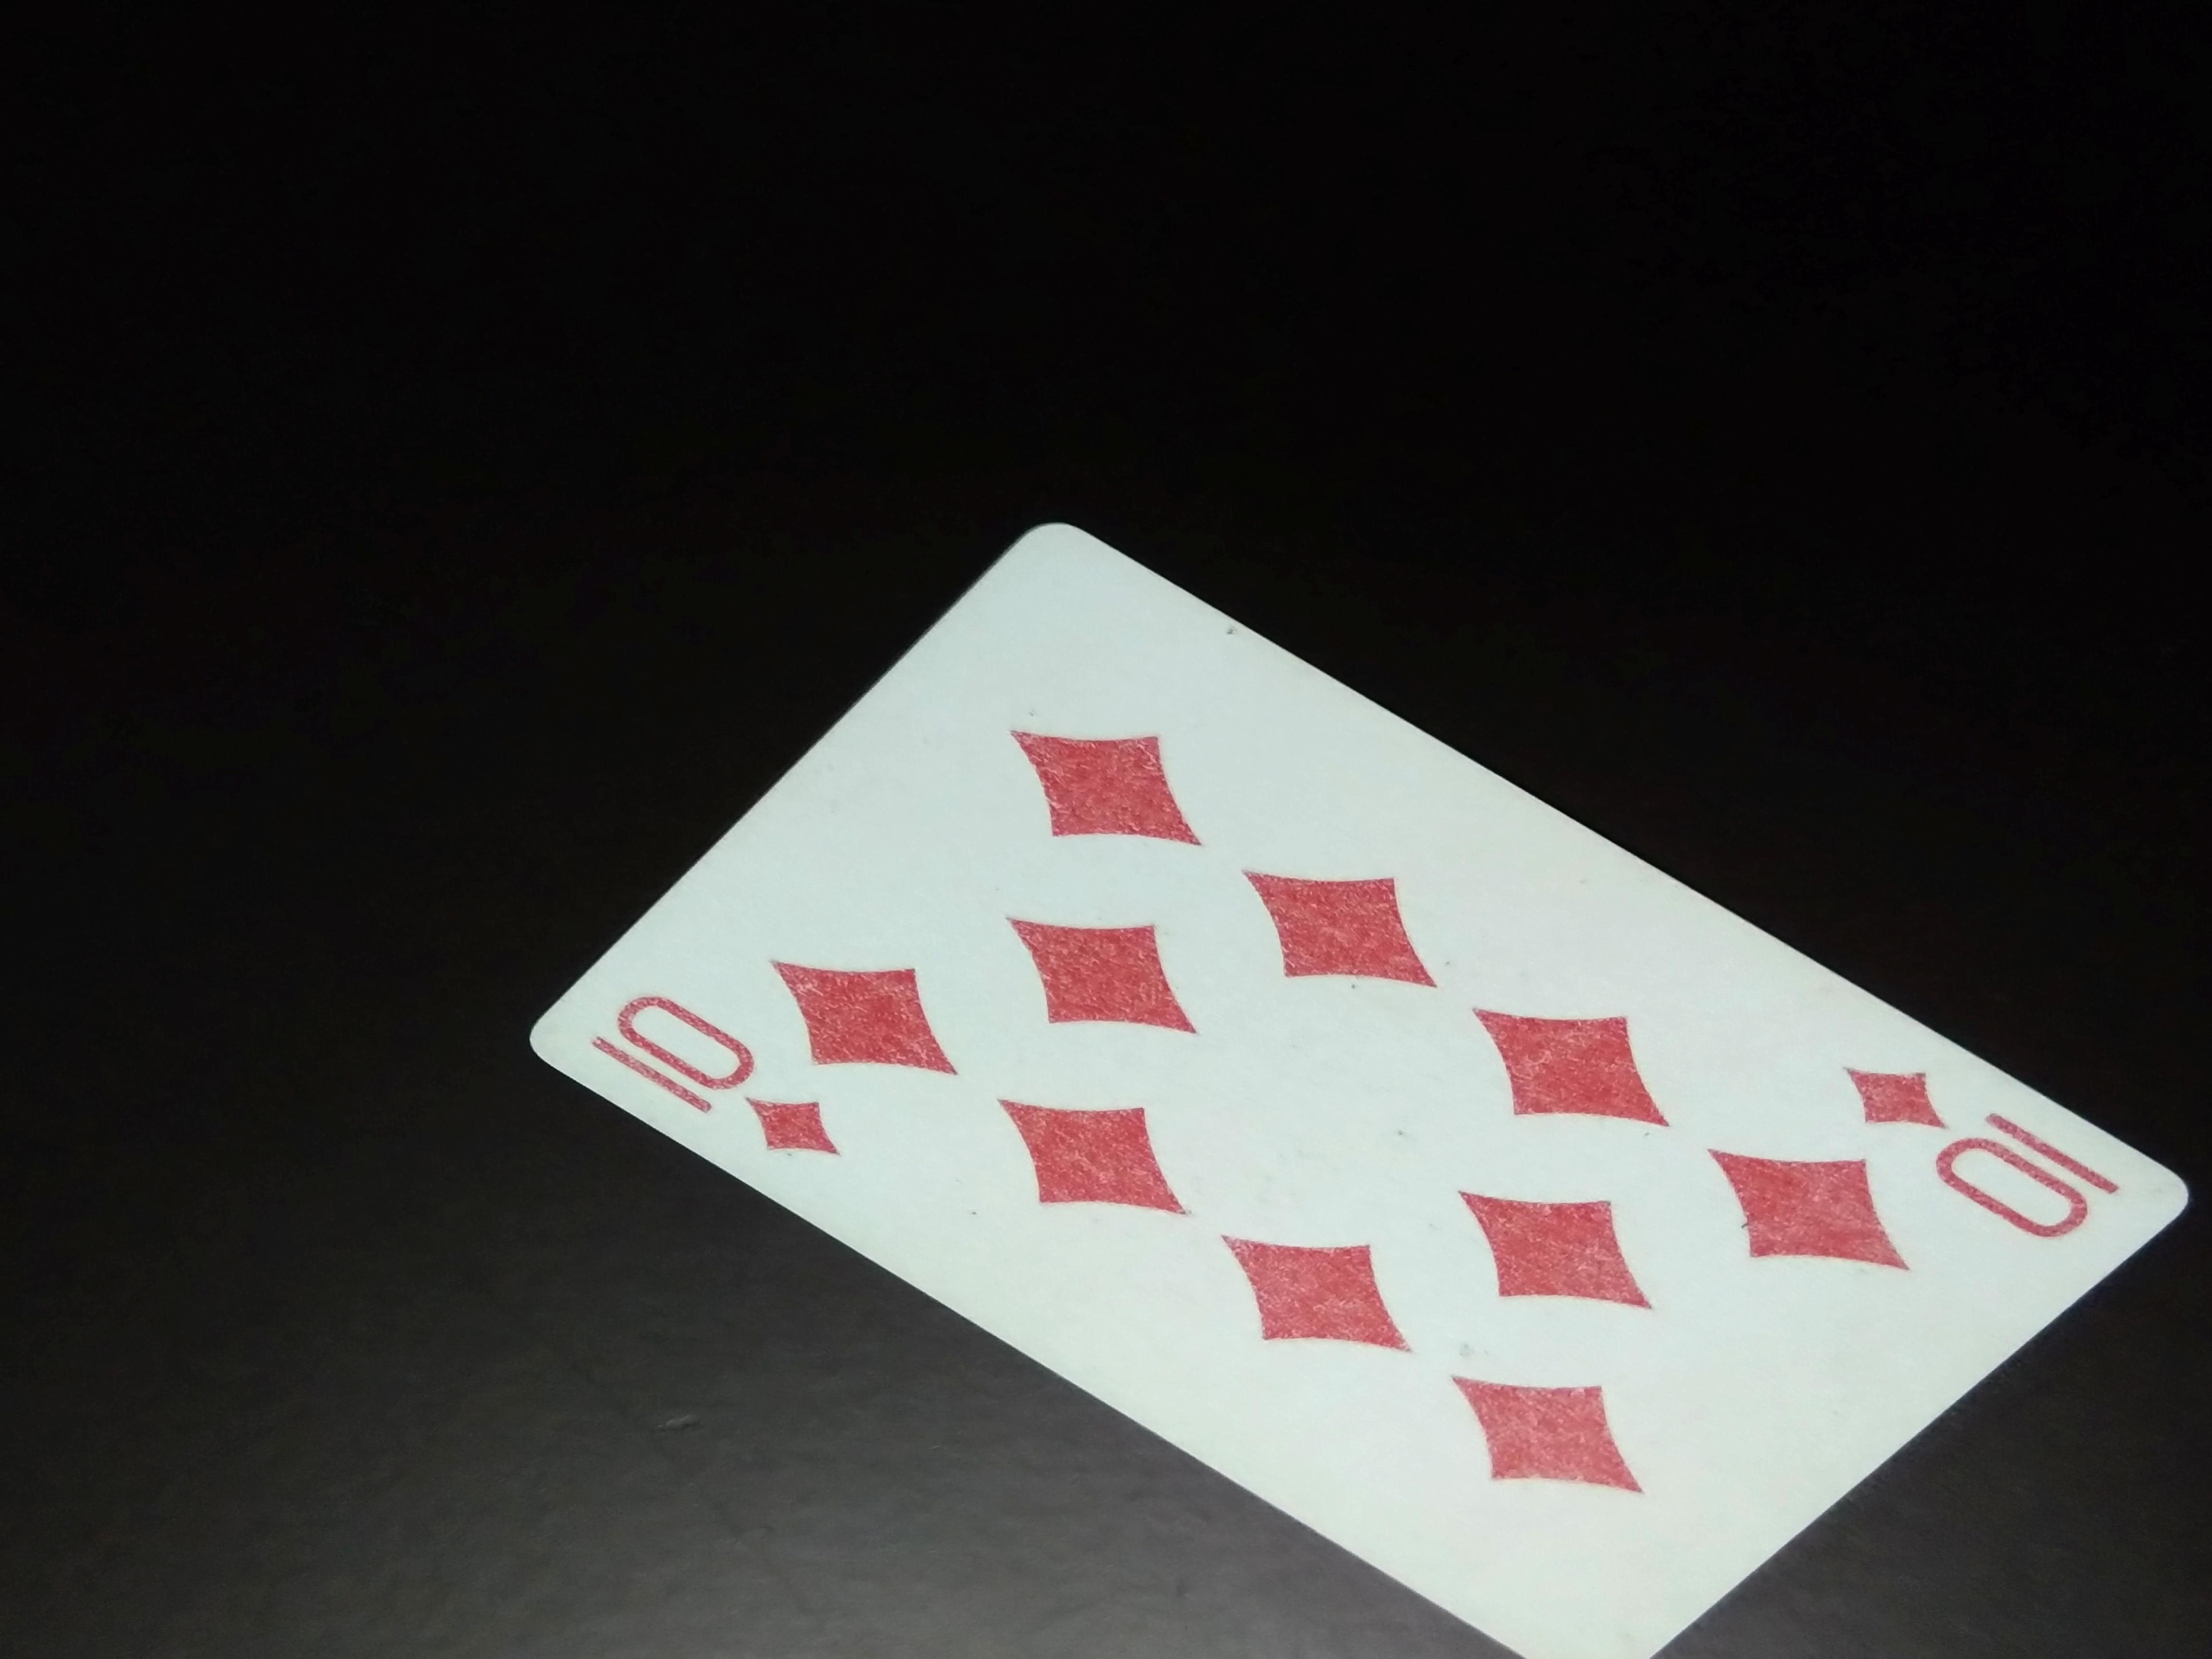10D: (582, 986, 860, 1175)
